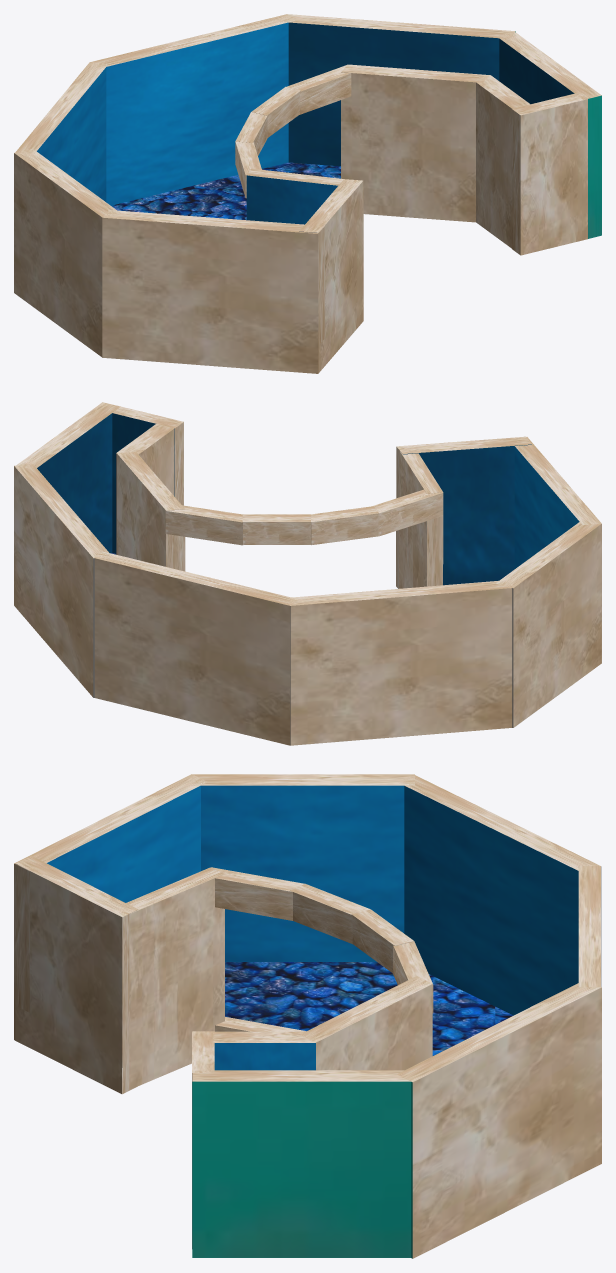
Rendered from area_peces.obj.
3 renders of one model, top to bottom at view 1: azimuth 30°, elevation 25°; view 2: azimuth 150°, elevation 25°; view 3: azimuth 270°, elevation 25°, orthographic. The views are drawn at different scales.
Parts seen in each view (by area): view 1: polySurface4 pPlane5; view 2: polySurface4 pPlane5; view 3: polySurface4 pPlane5.
Boxes of the visible parts, x1,y1,x2,y2 form: polySurface4 pPlane5: (14, 14, 601, 373); polySurface4 pPlane5: (14, 402, 601, 745); polySurface4 pPlane5: (14, 774, 601, 1258).
Size of the model in its own units: 42.01 by 11.24 by 33.86.
Materials: 15 (14 with a texture image).
